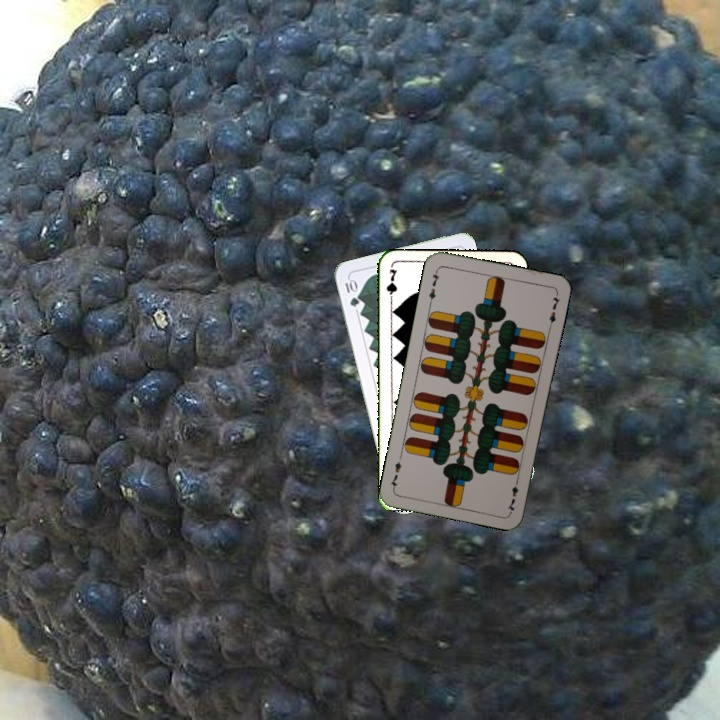E7: (503, 474, 521, 514), (425, 266, 442, 306)
G10: (341, 275, 362, 309)
G7: (382, 265, 399, 305)
